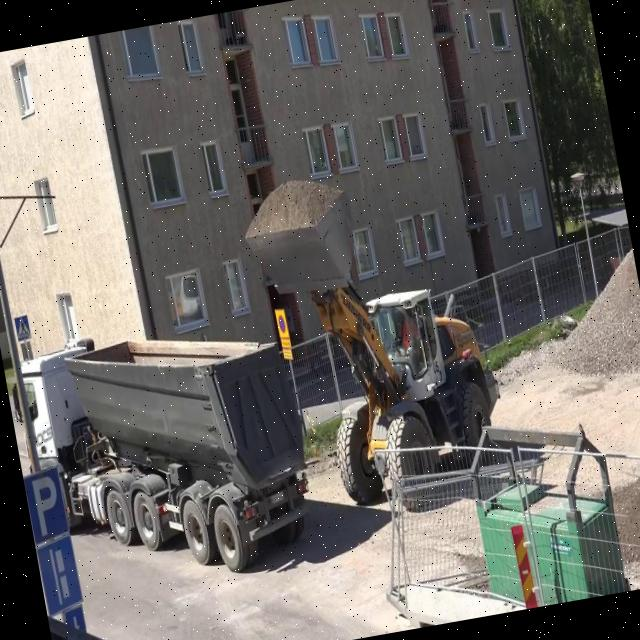Dump Truck: (0, 298, 332, 606)
Loader: (236, 154, 520, 528)
